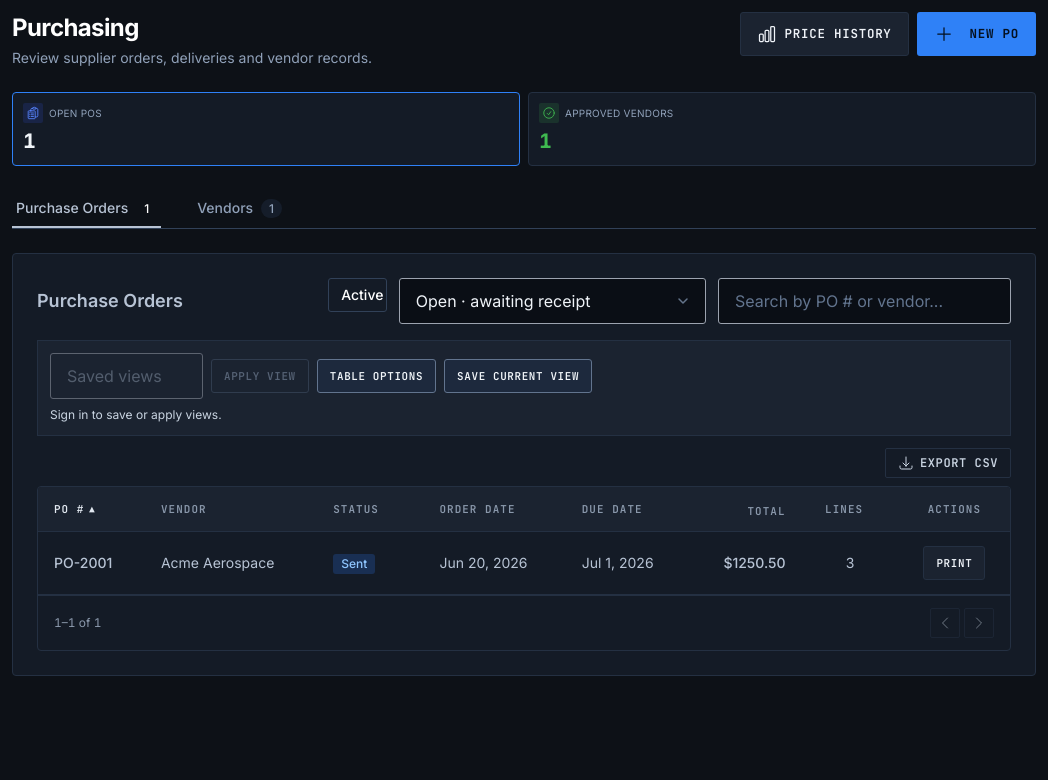
Purchasing — RBAC gating › Delete controls are hidden for a supervisor (below the admin/manager gate)
This screenshot has width=1048, height=780.
Check: the heading "Purchasing" is shown, box [12,12,139,44]
Note: ...and none on the vendors tab either.
Click the tab "Vendors1".
click(240, 209)  # box [193,190,286,228]
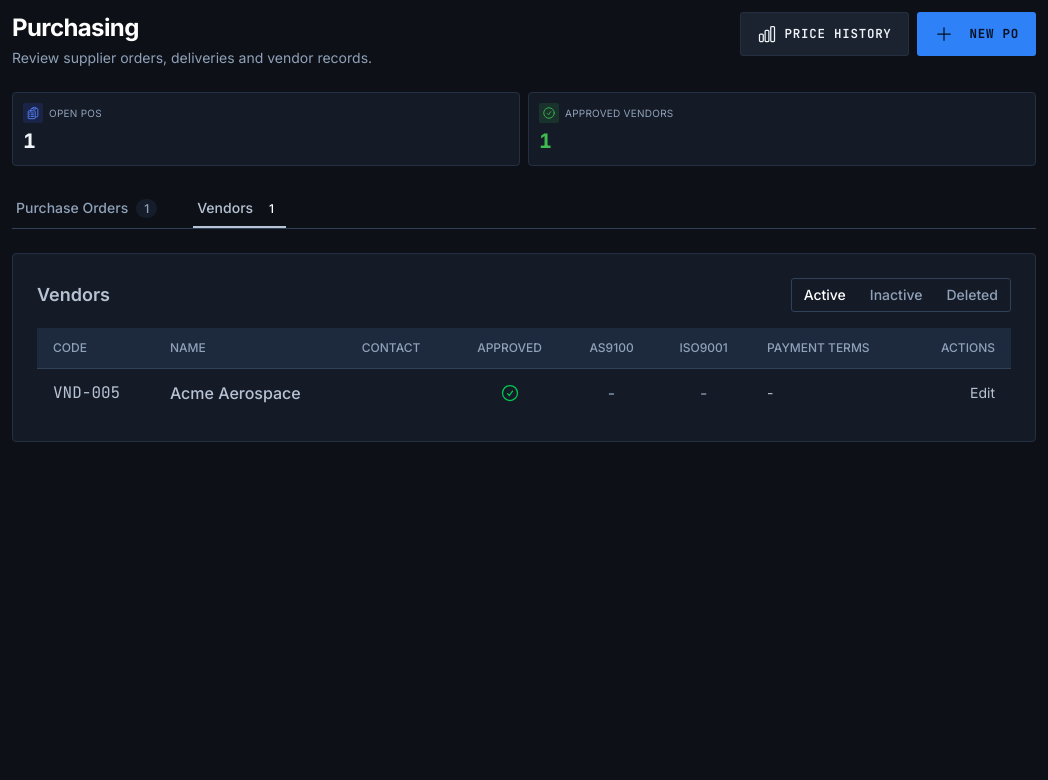
Check: the text "VND-005" is shown, box [37,368,154,417]
